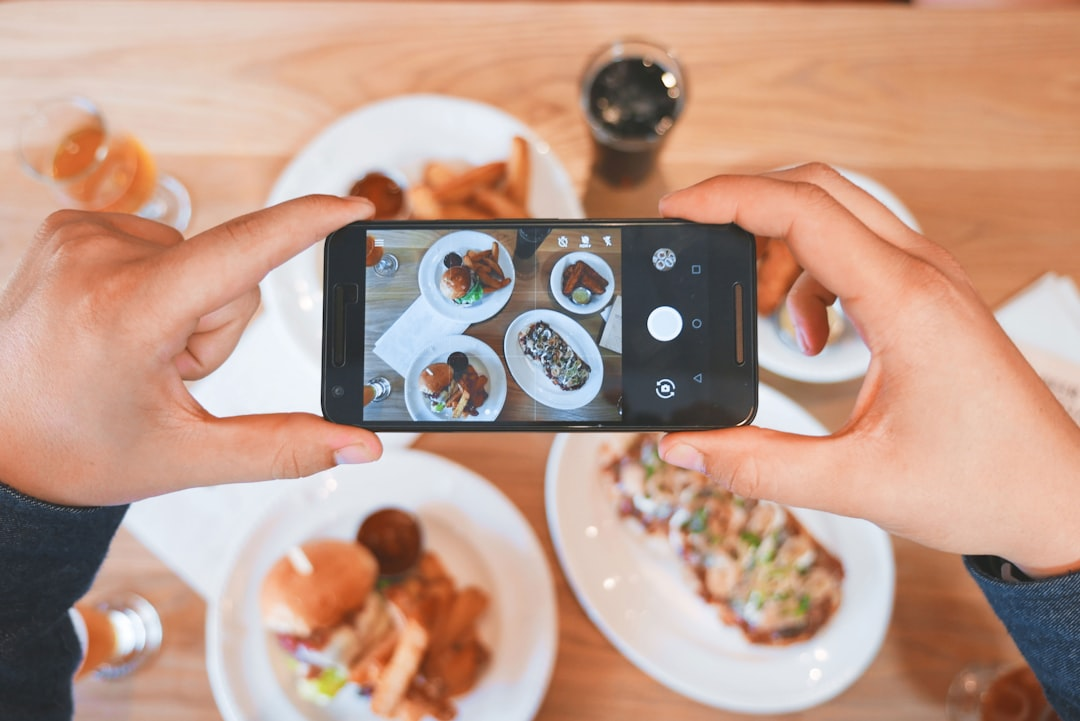phone: (318, 218, 761, 437)
